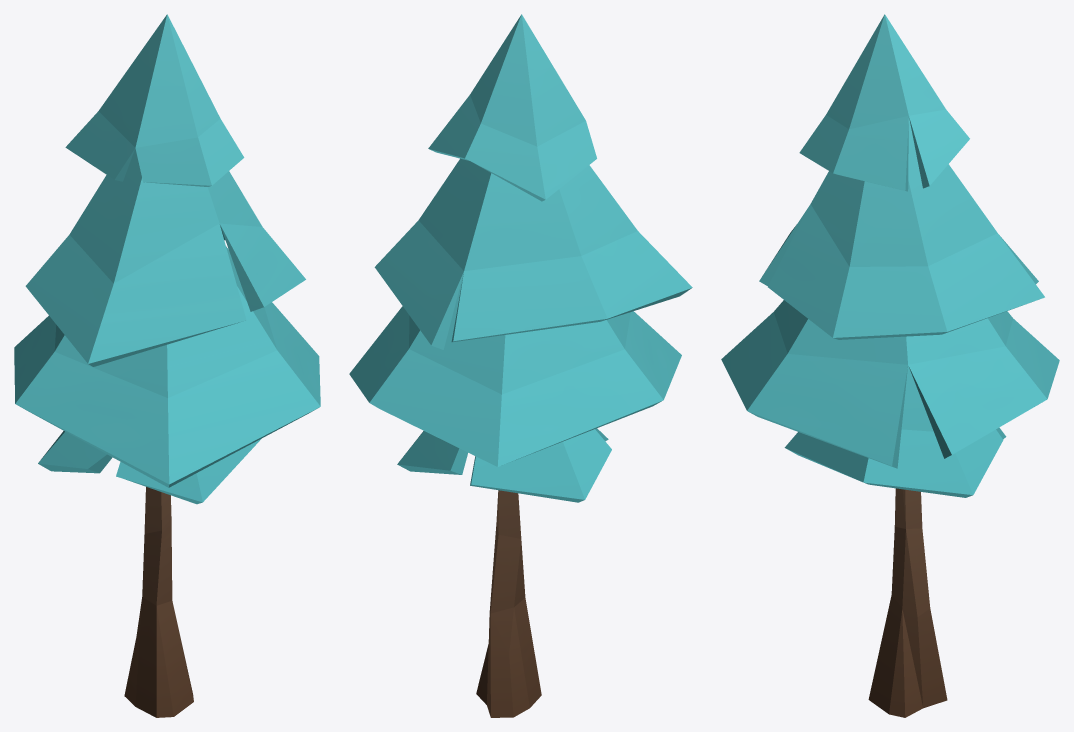
The model's file is Tree_Pine_Blue_01.fbx.
3 views of the same model, side by side, from view 1: azimuth 30°, elevation 25°; view 2: azimuth 150°, elevation 25°; view 3: azimuth 270°, elevation 25° (orthographic). The views are drawn at different scales.
Visible parts, largest first — view 1: Tree_Pine_Blue; view 2: Tree_Pine_Blue; view 3: Tree_Pine_Blue.
Part boxes in pixels (x1,y1,x2,y2): Tree_Pine_Blue: (14,14,320,717); Tree_Pine_Blue: (349,14,692,717); Tree_Pine_Blue: (721,14,1059,717).
Size of the model in its own units: 5.47 by 11.97 by 5.35.
